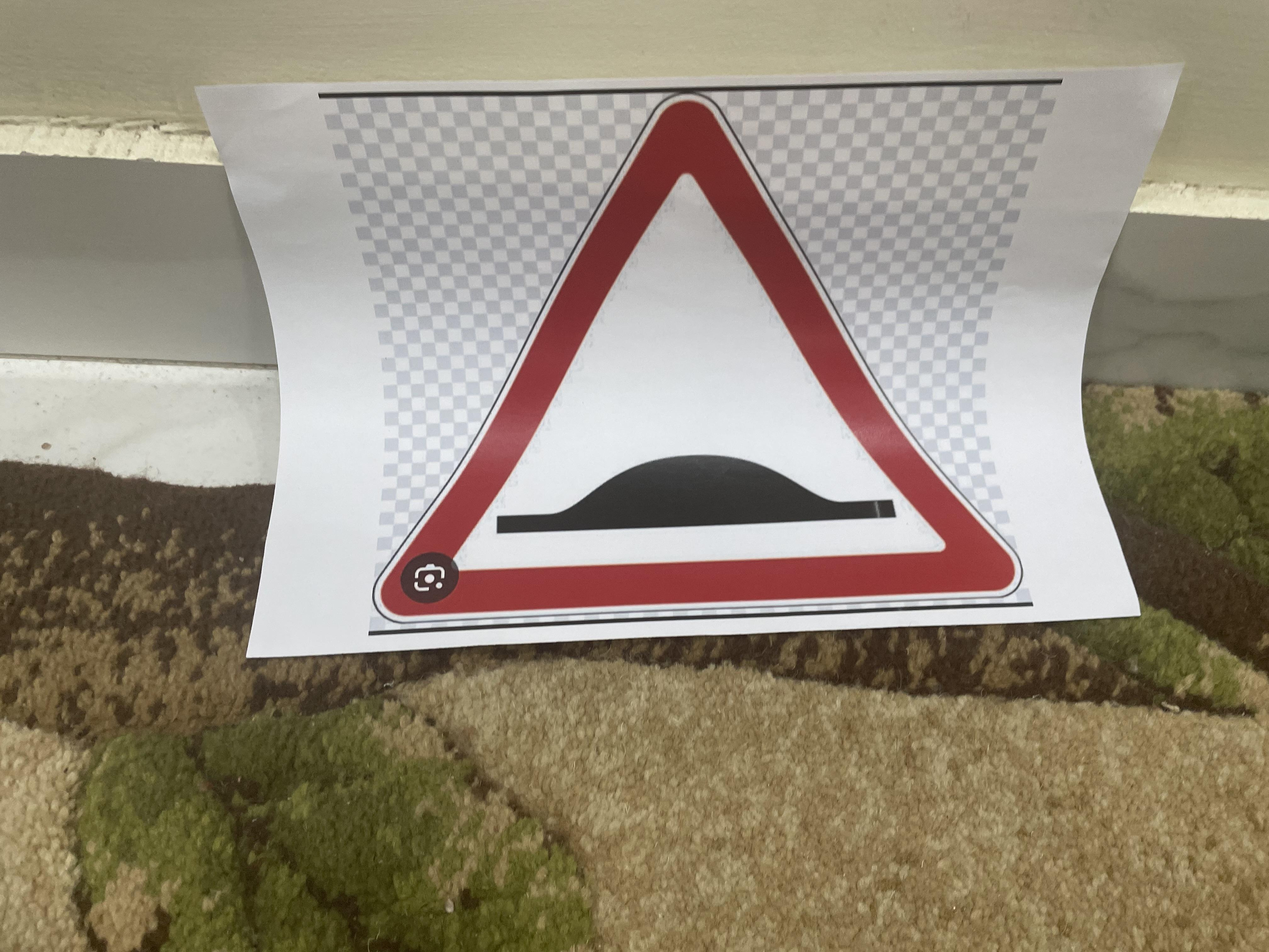Hump: (445, 296, 1151, 768)
